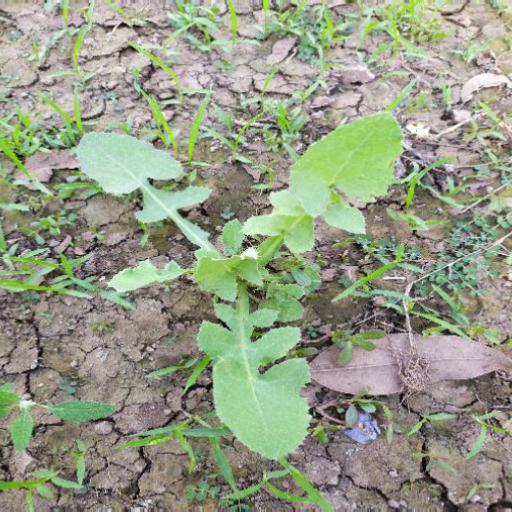weed: (72, 121, 405, 458), (417, 216, 512, 320), (361, 3, 450, 64), (266, 3, 346, 65), (157, 5, 239, 61), (14, 108, 67, 153)
